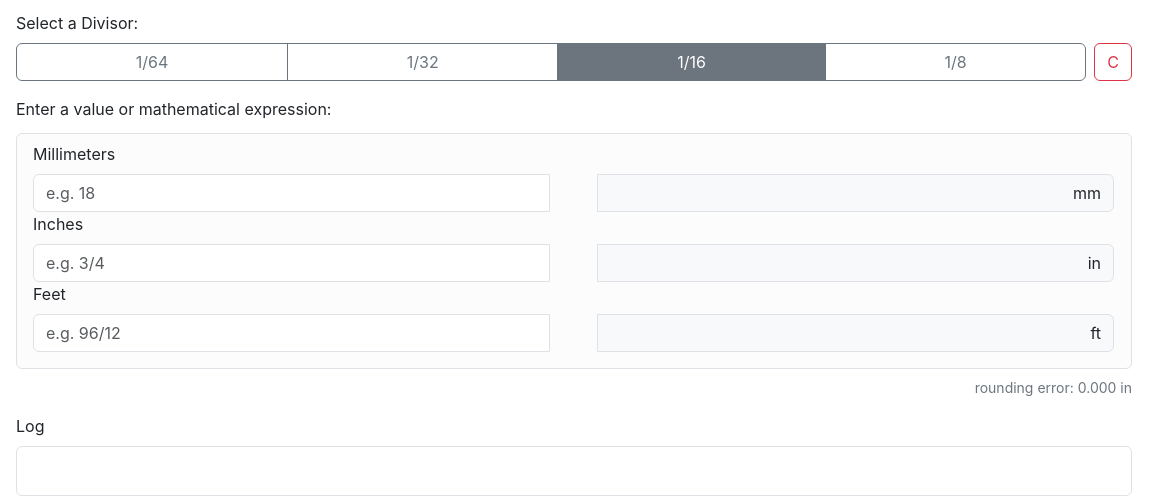
it: [Req 2] 0.25 in rounds to "0-1/4 in" with 1/8 divisor (fraction reduces)
Click the button "1/8" at (955, 62), box [825,43,1086,81]
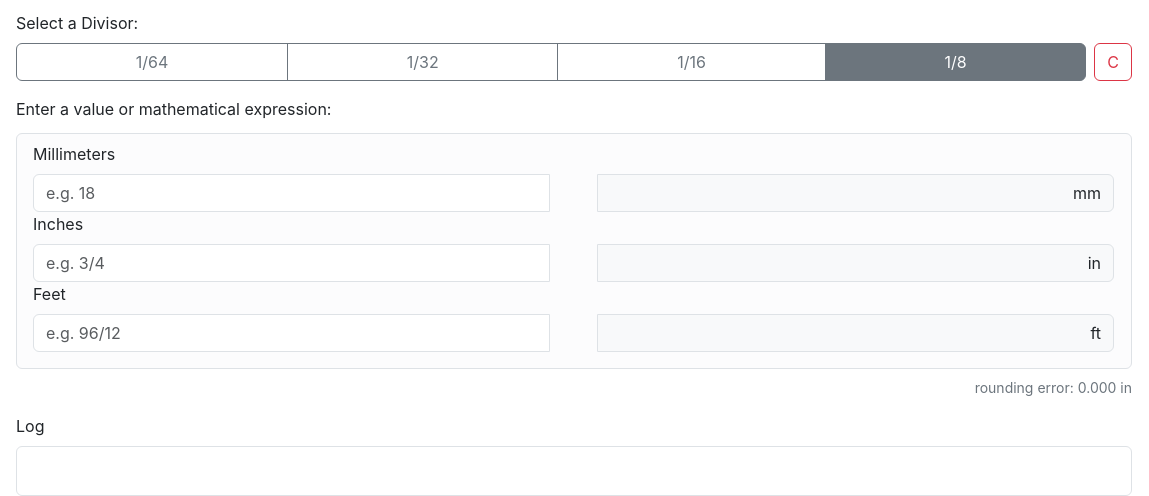
Type "0.25" into the field labelled "Inches" at (292, 263), box [33,244,550,282]
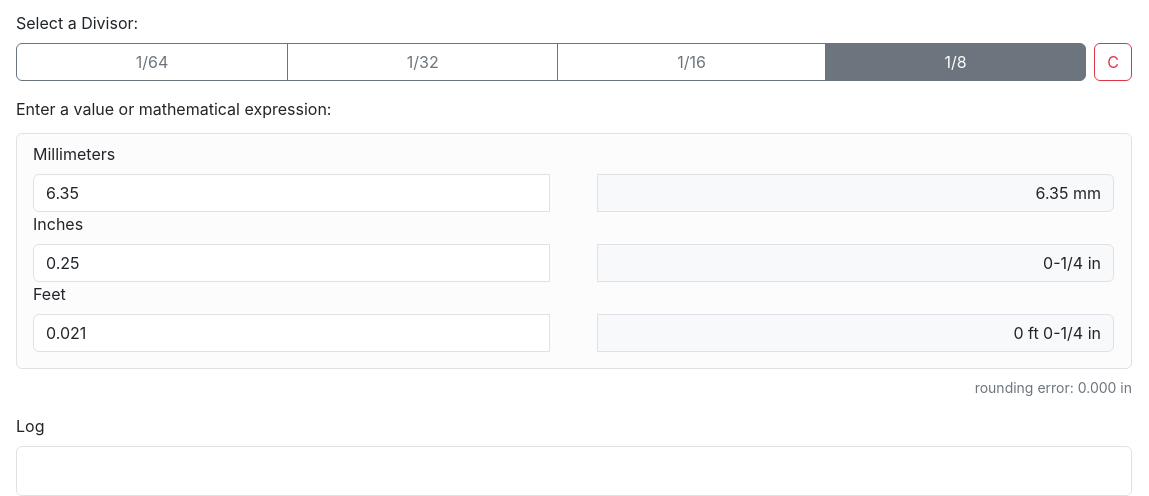
Expected: the text "0-1/4 in" is shown, [597,244,1114,282]
